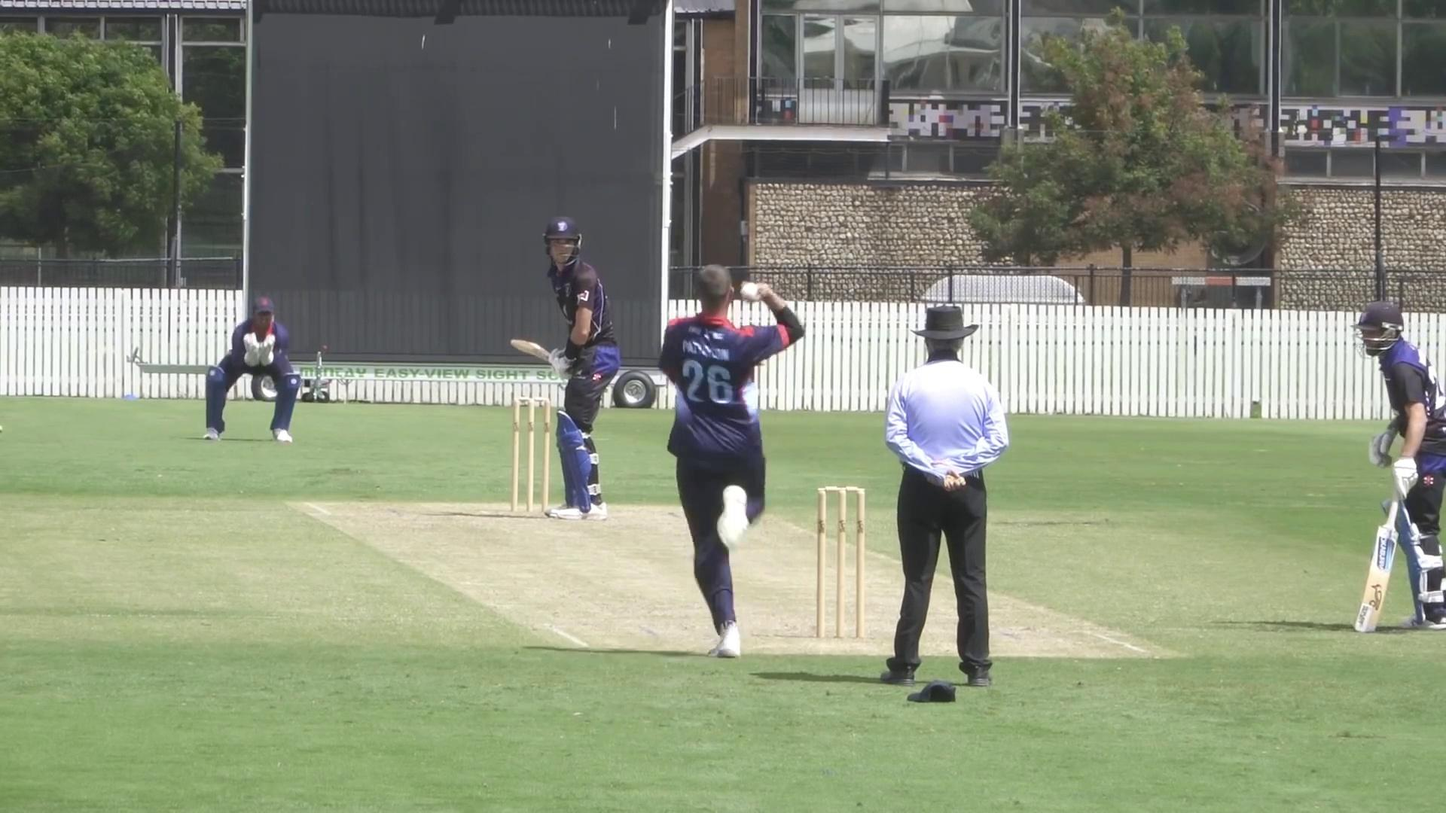ball: (736, 278, 763, 305)
